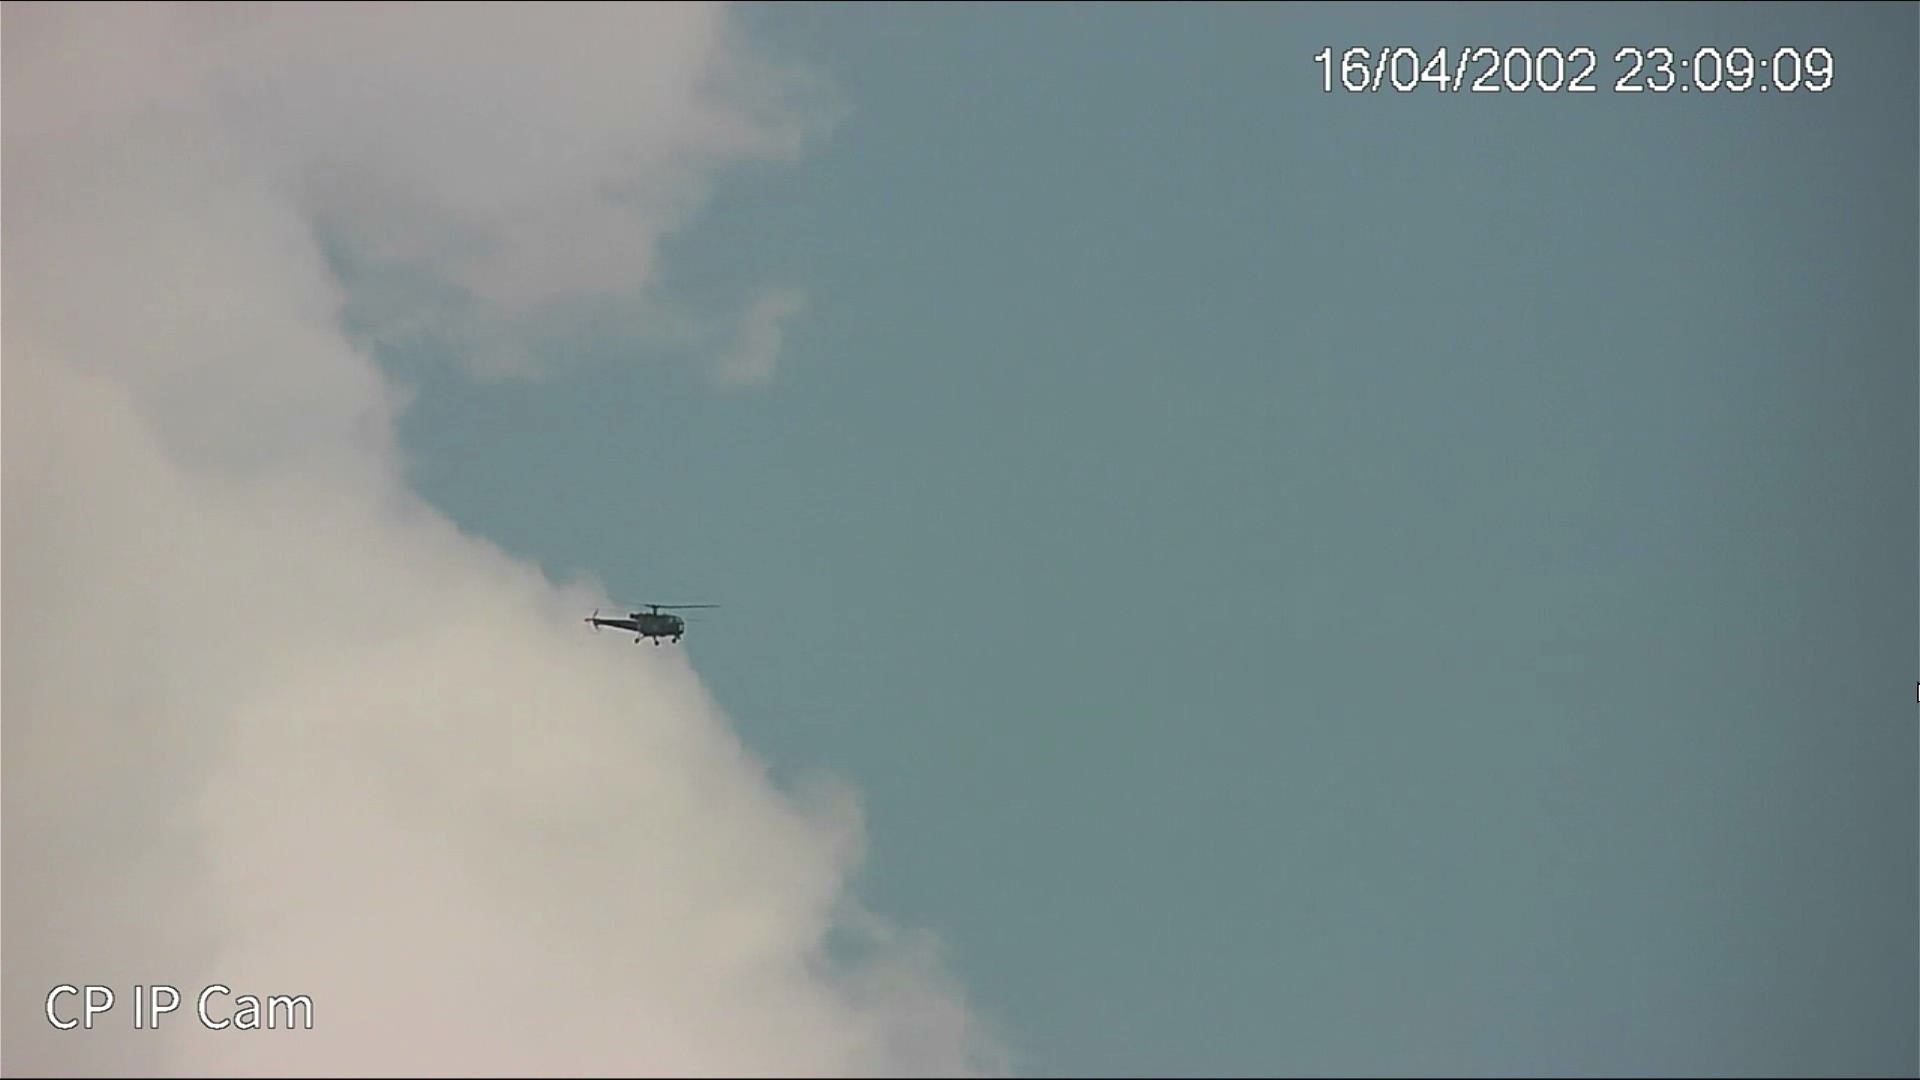SU_30: (583, 603, 682, 646)
